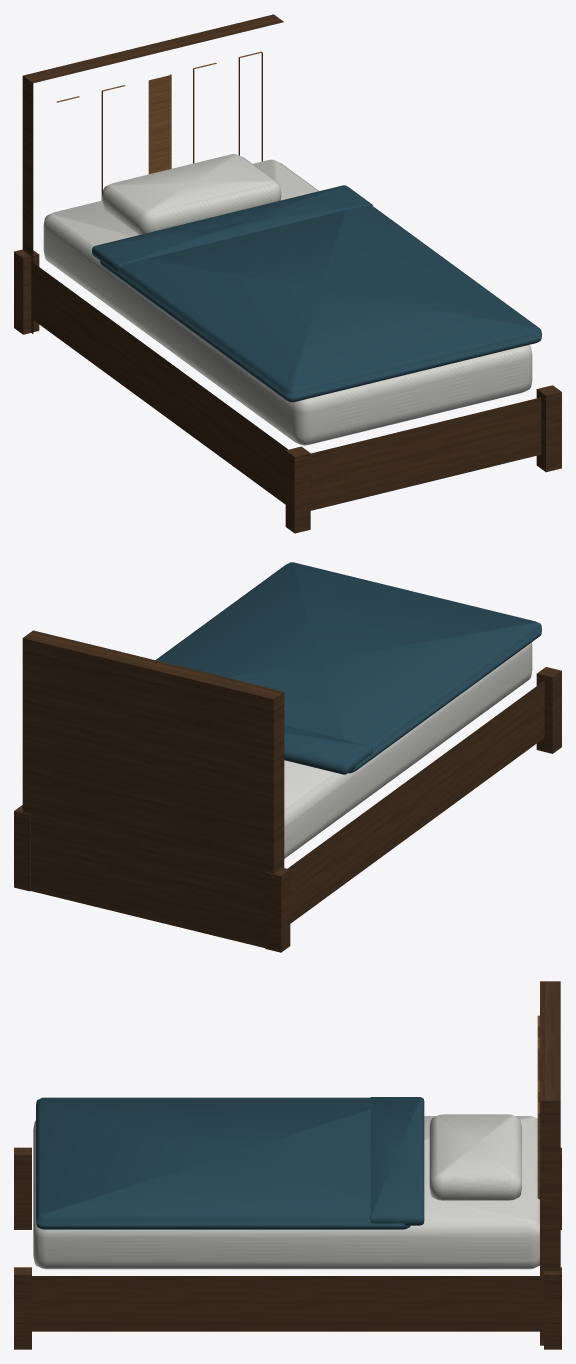
Rendered from bed_single.glb.
3 views of the same model, one above another, from view 1: azimuth 30°, elevation 25°; view 2: azimuth 150°, elevation 25°; view 3: azimuth 270°, elevation 25° (orthographic). The views are drawn at different scales.
Visible parts, largest first — view 1: BedSingle; view 2: BedSingle; view 3: BedSingle.
Boxes of the visible parts, x1,y1,x2,y2 form: BedSingle: (14, 14, 561, 533); BedSingle: (14, 562, 561, 952); BedSingle: (14, 981, 561, 1349).
Size of the model in its own units: 1.17 by 1.05 by 2.13.
Materials: 4 (4 with a texture image).
